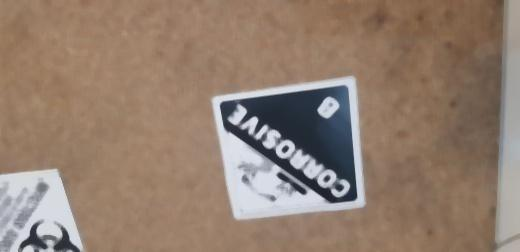corrosive: (210, 82, 373, 217)
infectious-substance: (1, 167, 89, 252)
